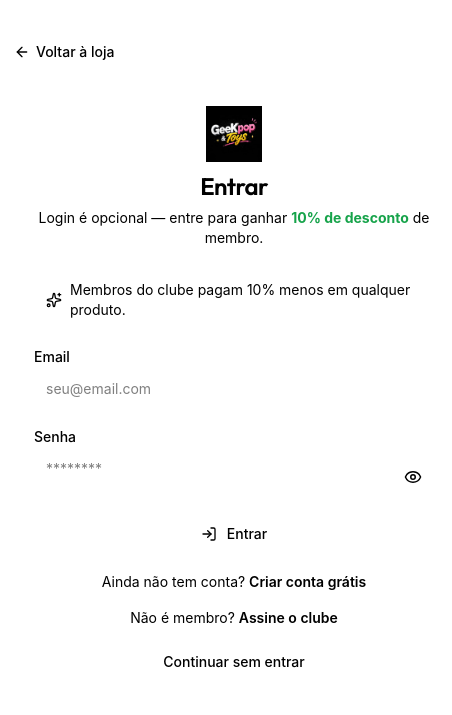
Scenario: ShopLogin › shows error on failed login
Step 1. Type "x@y.com" into the field labelled "Email" → (234, 388), box [34, 368, 434, 408]
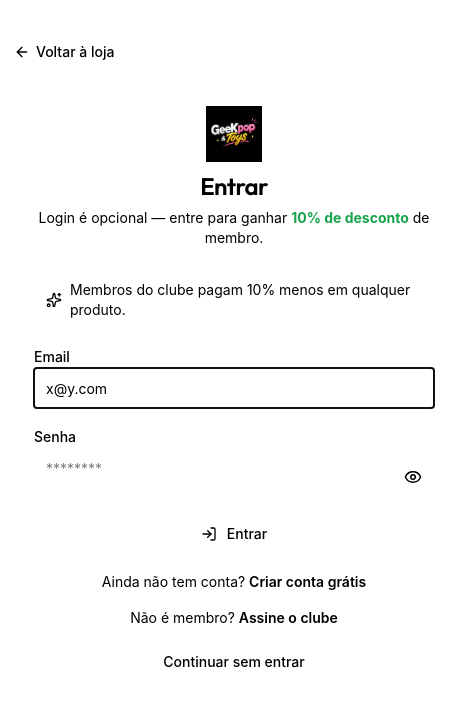
Step 2. Type "wrong" into the password field labelled "Senha" → (234, 468), box [34, 448, 434, 488]
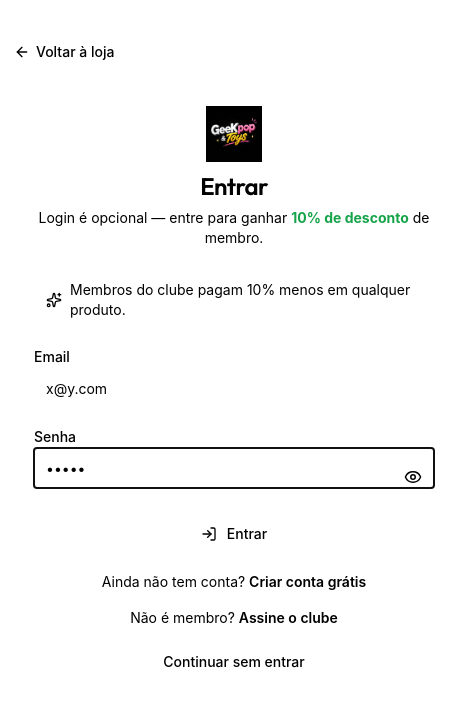
Step 3. Click the button "Entrar" → (234, 534), box [34, 512, 434, 556]
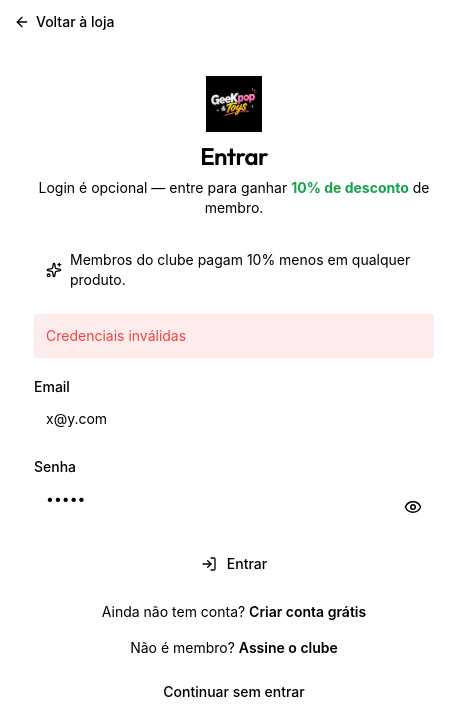
Check: the text "Credenciais inválidas" is shown, box [34, 314, 434, 358]
